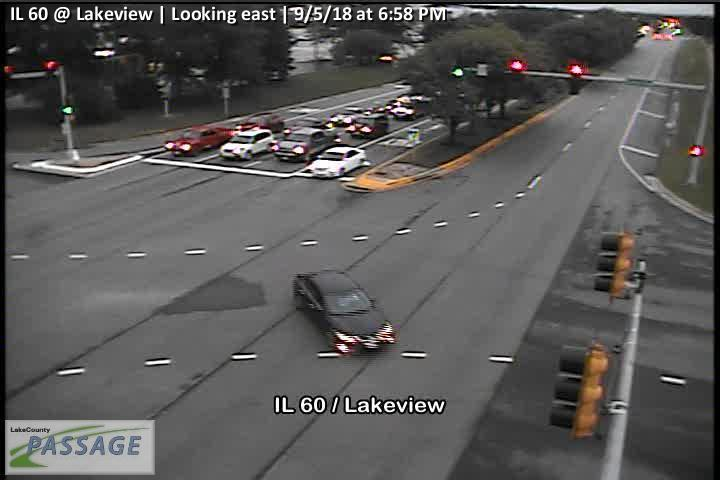SUV: (220, 129, 274, 161), (345, 113, 389, 140)
Sedan: (295, 272, 398, 354), (163, 125, 234, 157), (270, 127, 329, 163), (310, 146, 367, 179), (235, 112, 285, 134), (329, 107, 364, 127)
